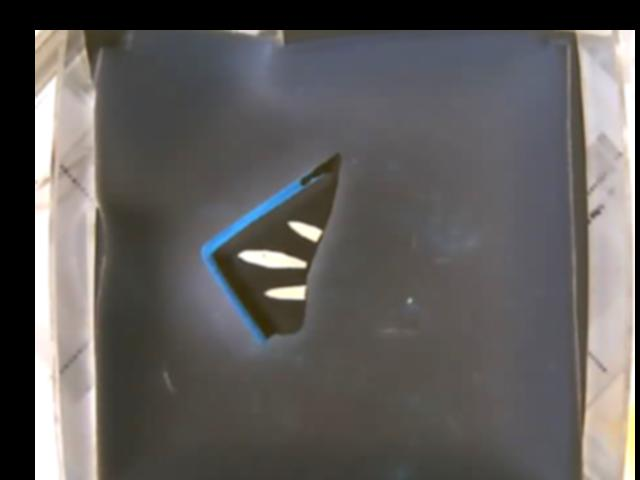China: (201, 150, 346, 338)
